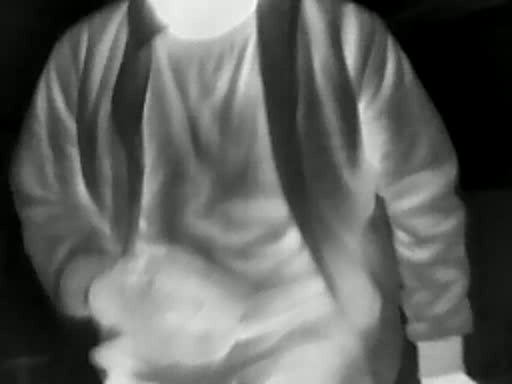chest: (72, 4, 358, 276)
